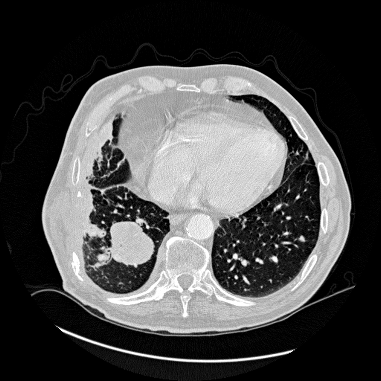nodule: (299, 236, 303, 240)
